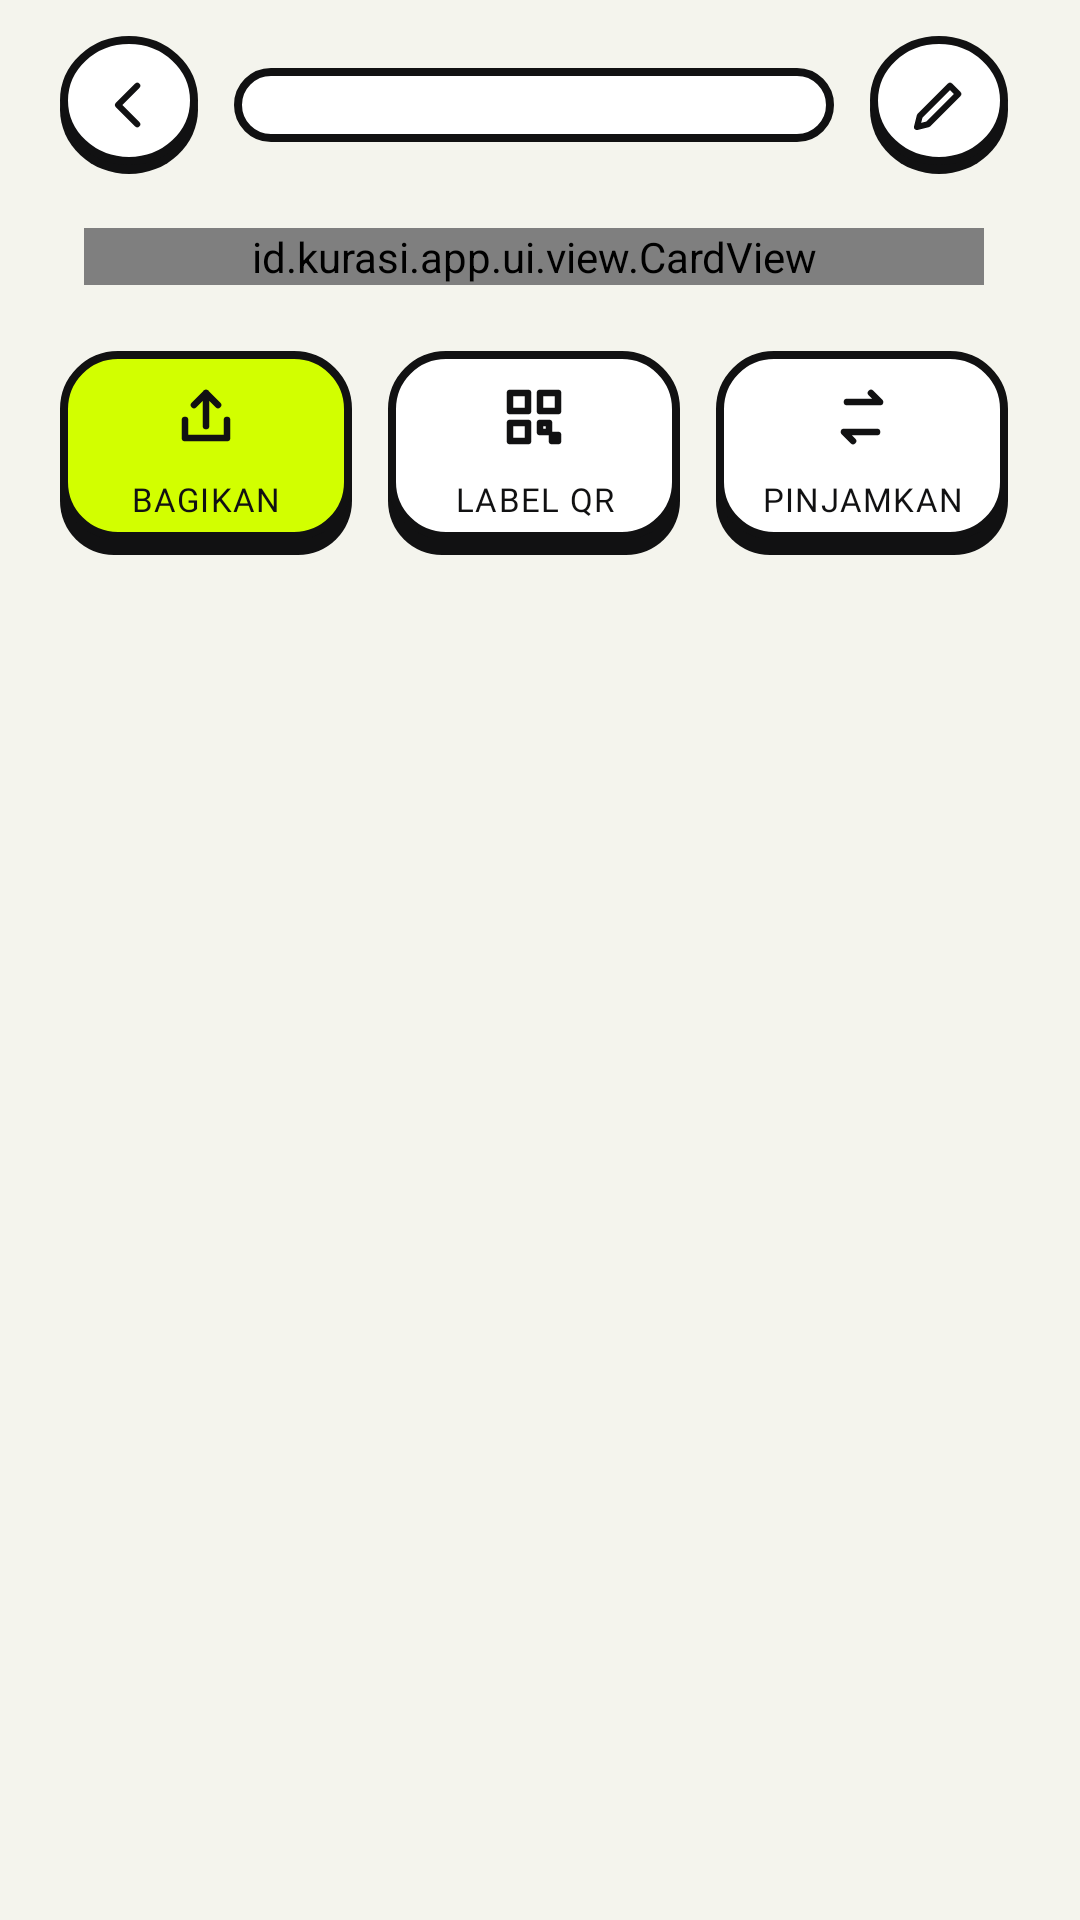

Named icons in this screenshot (1080px x 1920px) and their centers, point (x, y):
Kembali: point (129, 105)
Ubah: point (939, 105)
